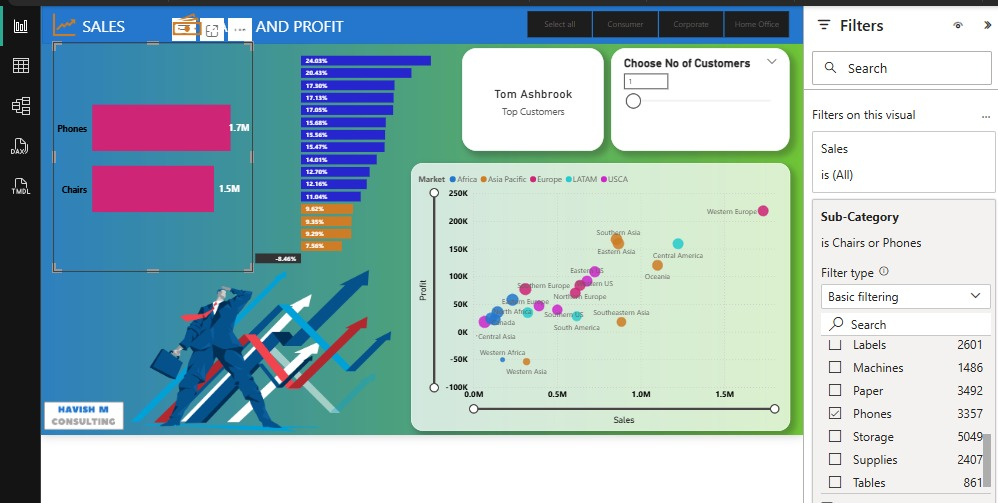

The page's visual inventory and layout, read from the dashboard file:
{"tool":"powerbi","page":{"name":"Sales vs Profit","canvas":[1280,720],"ordinal":2},"visuals":[{"type":"shape","box":[0.9,0,1279.1,63.1],"z":0},{"type":"scatterChart","fields":{"Y":["Sum(Table13.Profit)"],"X":["Sum(Table13.Sales)"],"Category":["Table13.Region"],"Size":["Table13.PM"],"Series":["Table13.Market"]},"box":[678.1,254.5,529.2,133],"z":1000},{"type":"image","box":[0,656.9,143.8,63.1],"z":2000},{"type":"image","box":[136.8,437.6,465.7,282.4],"z":3000},{"type":"barChart","fields":{"Category":["Table13.Sub-Category"],"Y":["Table13.PM"]},"box":[340.9,70.3,336.8,366.7],"z":4000},{"type":"barChart","fields":{"Y":["Sum(Table13.Sales)"],"Category":["Table13.Sub-Category"]},"box":[20.7,59.9,334.7,387.4],"z":5000},{"type":"image","box":[2.7,0,70.3,63.1],"z":6000},{"type":"shape","box":[49.6,0,110,63.1],"z":7000},{"type":"image","box":[210,0,70.3,63.1],"z":8000},{"type":"shape","box":[265,0,259.6,63.1],"z":9000},{"type":"slicer","fields":{"Values":["Table13.Segment"]},"box":[790.5,1.8,489.5,57.7],"z":10000},{"type":"slicer","fields":{"Values":["Table13.Market"]},"box":[678.1,69.4,472.8,157.6],"z":11000},{"type":"tableEx","fields":{"Values":["Table13.Customer Name","Sum(Table13.Sales)","Sum(Table13.Profit)"]},"box":[678.1,438.1,514.7,260.2],"z":11001}]}

Visuals, with their boxes on the page's 1280x720 design canvas (x1, y1, x2, y2). These are canvas units, not pixel positions in the 998x503 screenshot, which may show the page scaled, cropped or inside an application window:
shape: region(1, 0, 1280, 63)
scatterChart - Sum(Table13.Profit) x Sum(Table13.Sales): region(678, 254, 1207, 388)
image: region(0, 657, 144, 720)
image: region(137, 438, 602, 720)
barChart - Table13.Sub-Category x Table13.PM: region(341, 70, 678, 437)
barChart - Sum(Table13.Sales) x Table13.Sub-Category: region(21, 60, 355, 447)
image: region(3, 0, 73, 63)
shape: region(50, 0, 160, 63)
image: region(210, 0, 280, 63)
shape: region(265, 0, 525, 63)
slicer - Table13.Segment: region(790, 2, 1280, 60)
slicer - Table13.Market: region(678, 69, 1151, 227)
tableEx - Table13.Customer Name x Sum(Table13.Sales): region(678, 438, 1193, 698)
